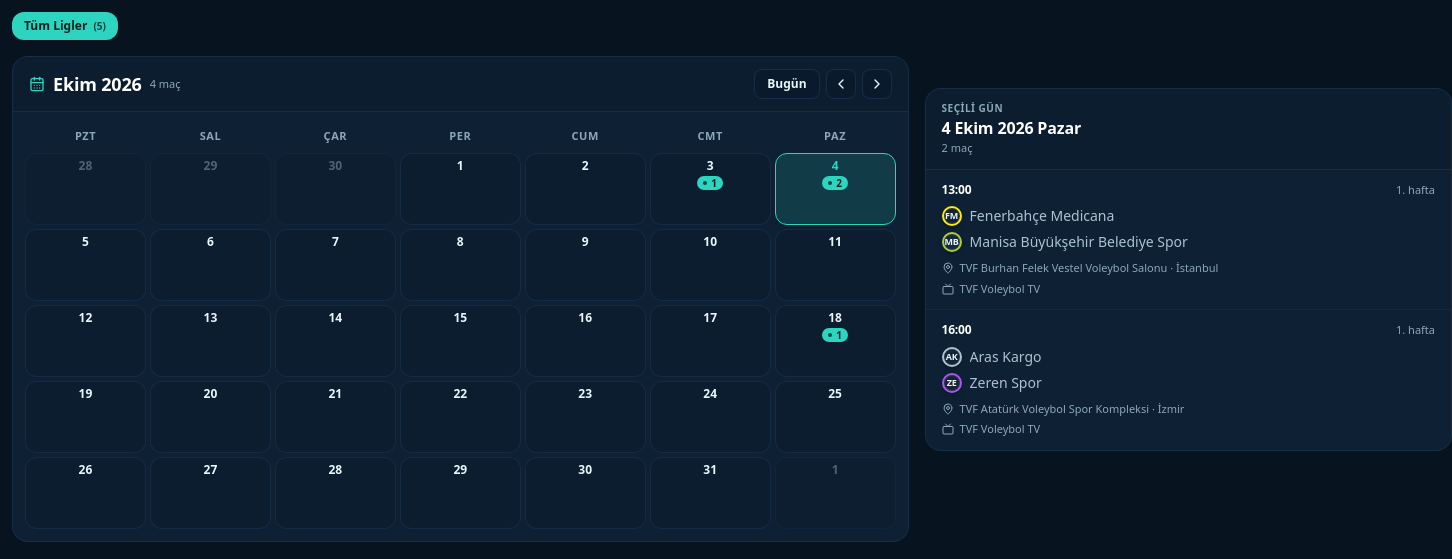
TakvimCalendar › oynanmış maçta skoru ve set sonuçlarını gösterir; oynanmamışta göstermez
Check: the text "Bitti" is not shown
What coordinates should you click on to do the following:
click the button "3 1"
I would click on:
 (710, 188)
Its box is [650,152,771,224].
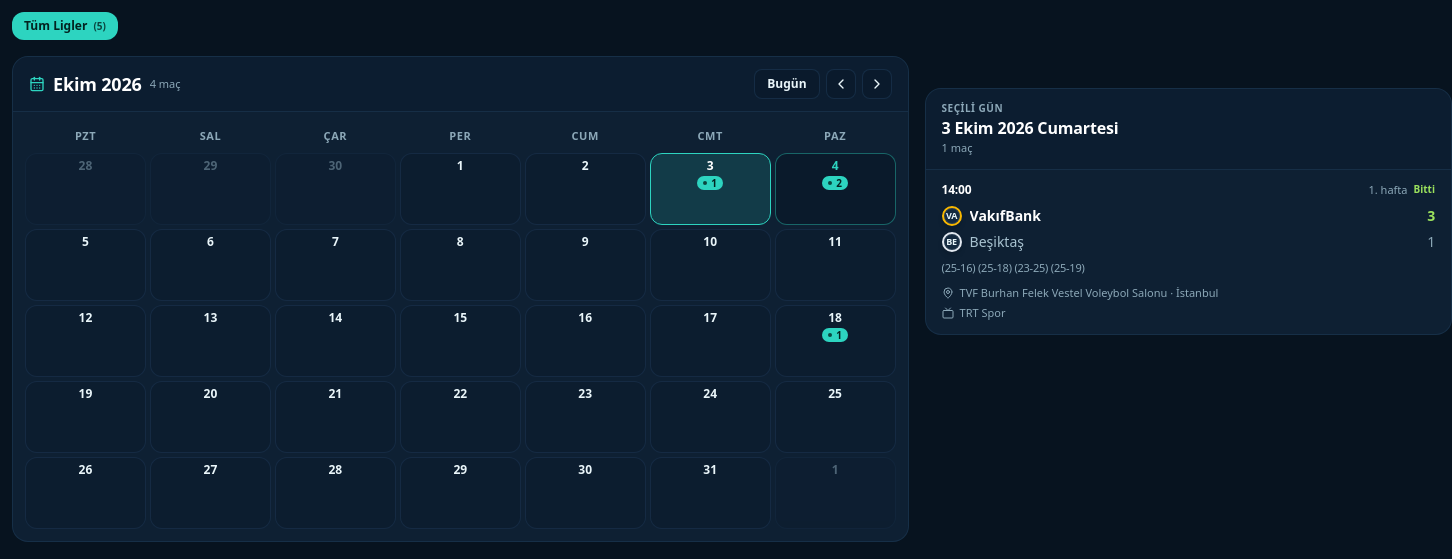
Check: the text with test id "home-score" reads "3", box [1427,206,1435,225]
Check: the text with test id "away-score" reads "1", box [1427,232,1435,251]
Check: the text with test id "set-scores" reads "(25-16) (25-18) (23-25) (25-19)", box [942,260,1085,275]
